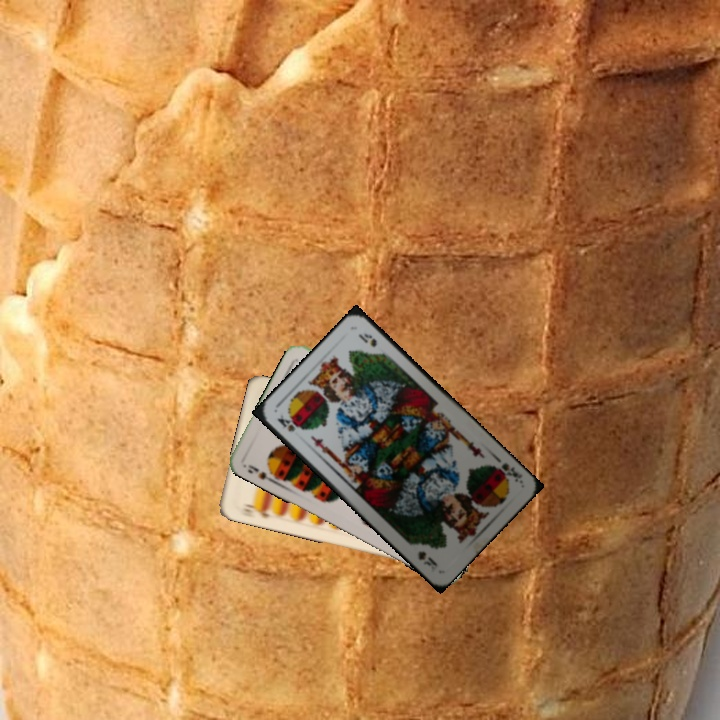E10: (240, 500, 273, 520)
S9: (241, 460, 280, 486)
SK: (489, 458, 525, 485), (273, 411, 301, 434)
